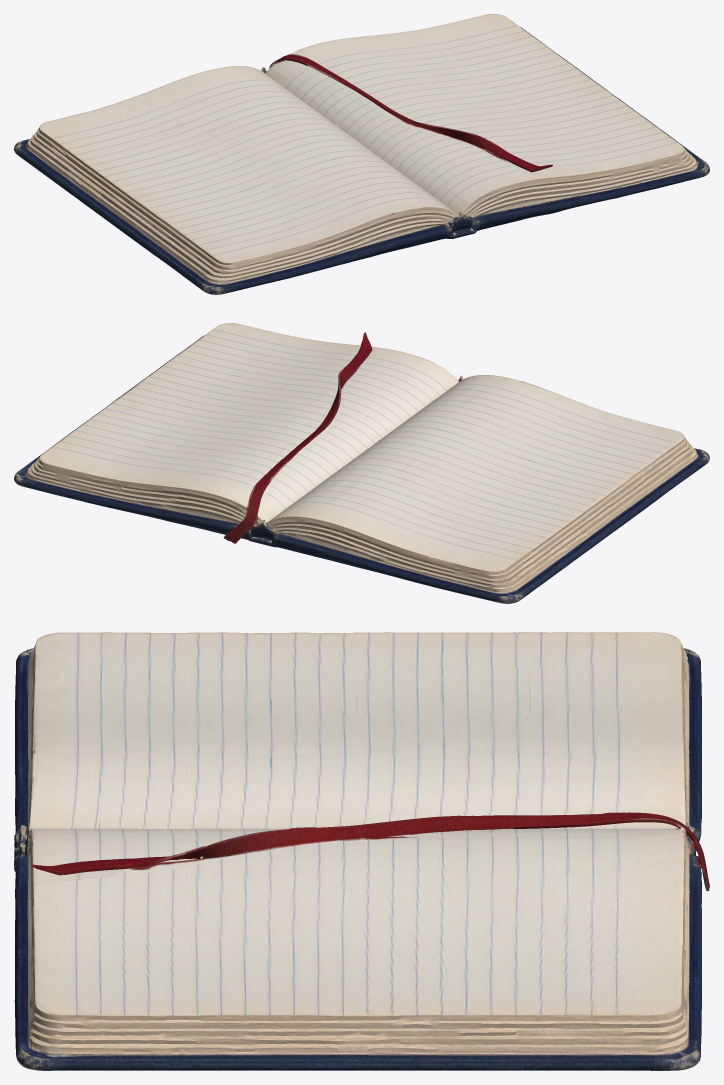
Rendered from original-notebook.glb.
3 views of the same model, one above another, from view 1: azimuth 30°, elevation 25°; view 2: azimuth 150°, elevation 25°; view 3: azimuth 270°, elevation 25° (orthographic). The views are drawn at different scales.
Parts seen in each view (by area): view 1: Mesh_0; view 2: Mesh_0; view 3: Mesh_0.
Boxes of the visible parts, x1=… form: Mesh_0: x1=14, y1=14, x2=709, y2=294; Mesh_0: x1=14, y1=323, x2=709, y2=603; Mesh_0: x1=14, y1=632, x2=709, y2=1070.
Size of the model in its own units: 1.9 by 0.1722 by 1.34.
1 material, 1 textured.
